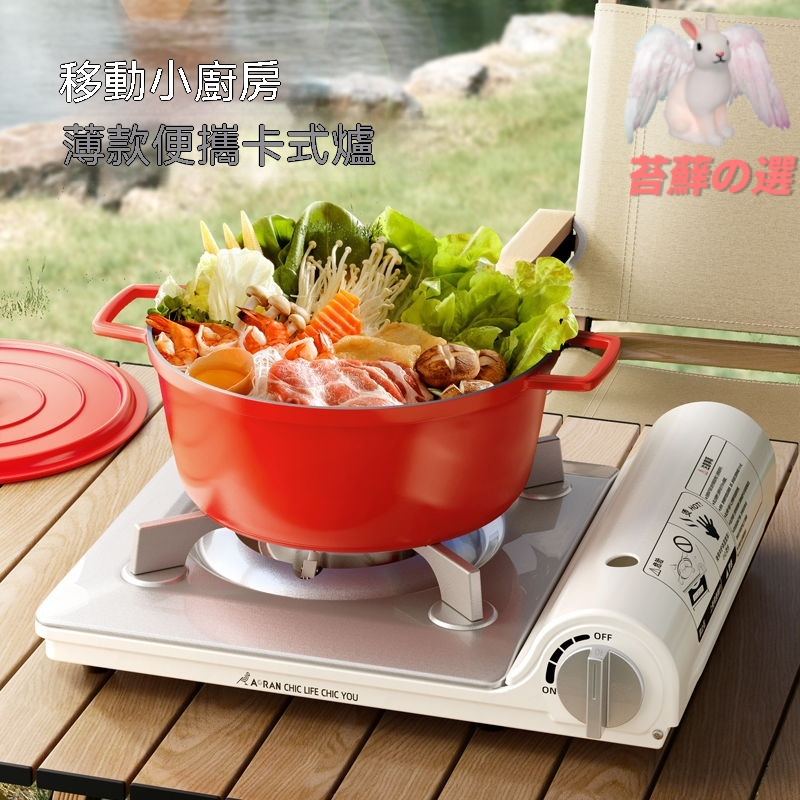gasoven: (43, 393, 780, 754)
